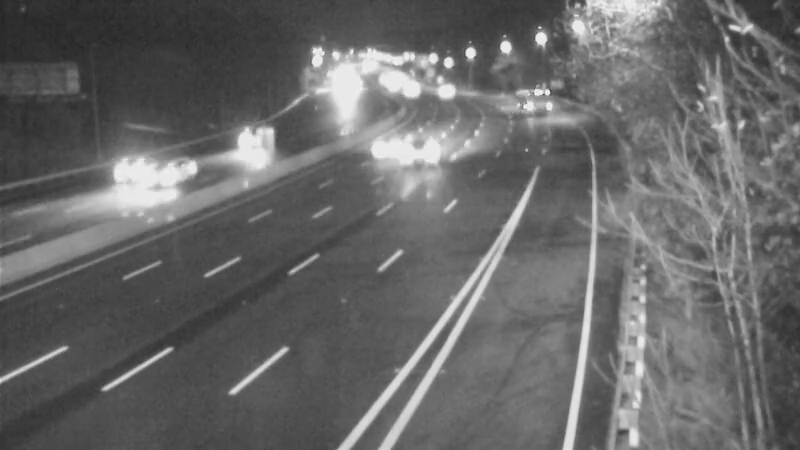vehicle: (377, 114, 457, 194), (87, 132, 167, 212), (125, 134, 205, 214), (411, 65, 461, 115), (381, 69, 431, 119), (513, 72, 563, 122), (362, 123, 412, 173), (222, 120, 272, 170)
